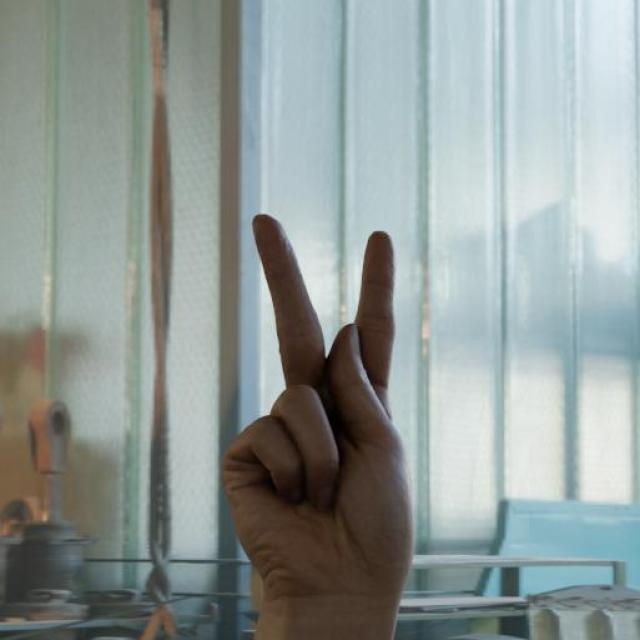K: (219, 211, 419, 589)
